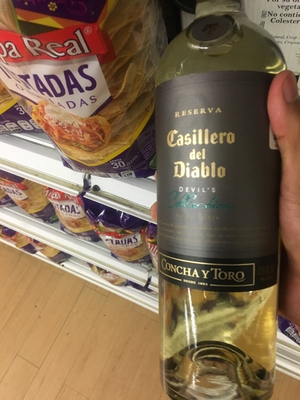casillero del diablo devils collection verde: (145, 14, 300, 390)
